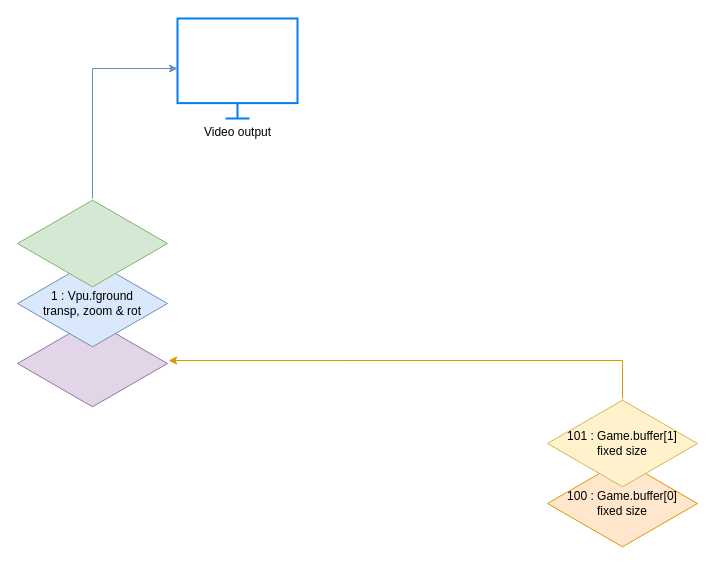
The diagram is 715 pixels wide and 566 high, and some of its shapes have lost their labels. Here are the shapes that lost their labels. From the top down, the centre of each, then its label:
point (92, 243): 2 : Vpu.overlay transp, zoom & rot
point (92, 363): 0 : Vpu.bground transp, zoom & rot
